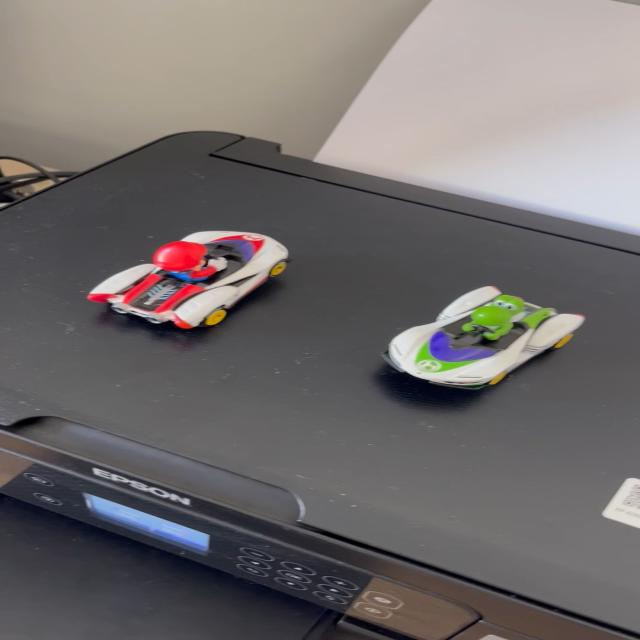mario: (77, 227, 311, 337)
yoshi: (368, 282, 592, 402)
